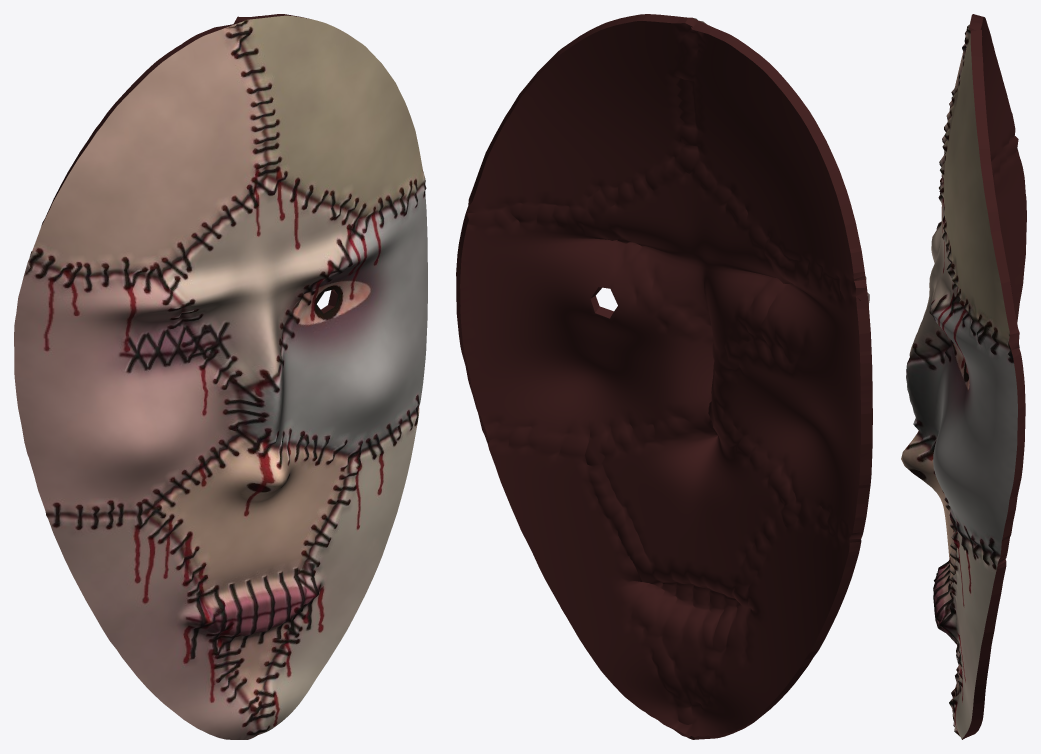
File: 縫い面_nuime.glb
3 views of the same model, side by side, from view 1: azimuth 30°, elevation 25°; view 2: azimuth 150°, elevation 25°; view 3: azimuth 270°, elevation 25° (orthographic). The views are drawn at different scales.
Visible parts, largest first — view 1: nuime; view 2: nuime; view 3: nuime.
Part boxes in pixels (left/top/right/bottom): nuime: left=14, top=14, right=427, bottom=739; nuime: left=456, top=14, right=872, bottom=739; nuime: left=901, top=14, right=1026, bottom=739.
Size of the model in its own units: 0.1796 by 0.2982 by 0.0483.
1 material, 1 textured.
